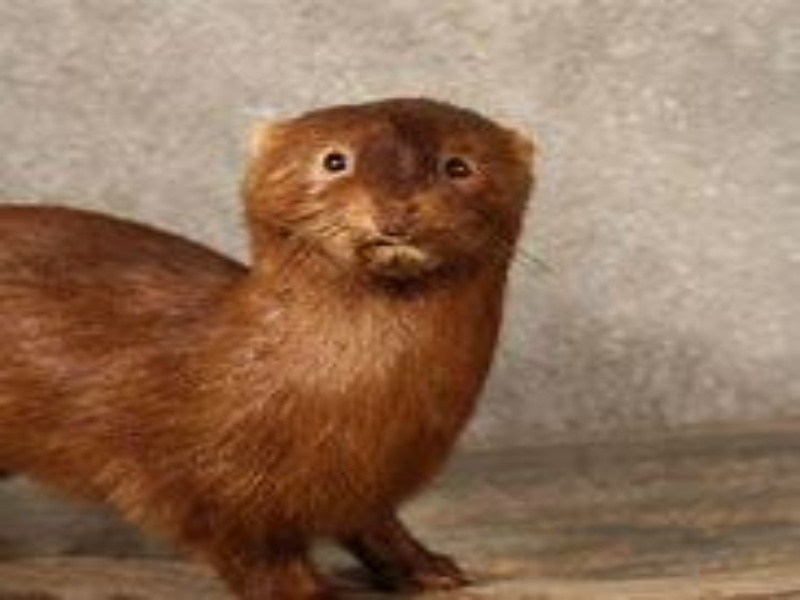minkish: (1, 91, 540, 600)
